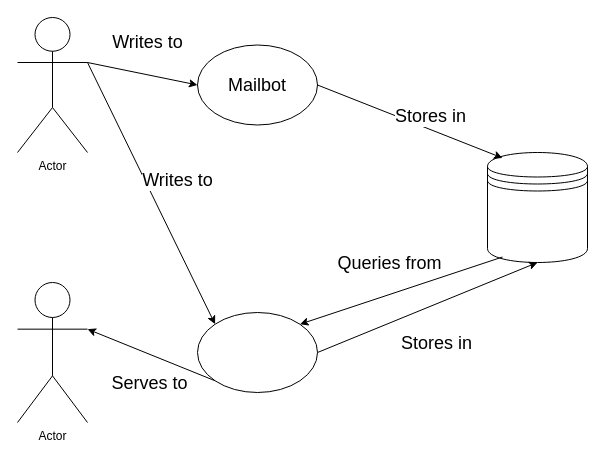
Image size: 605x461. Some labels were removed from this diagram. The shapes that lost their labels are listed below. From the top down, each one's box as (x1, y1, x2, y2) in pixels, then its label:
(486, 152, 588, 262): Database
(196, 312, 318, 392): Website
